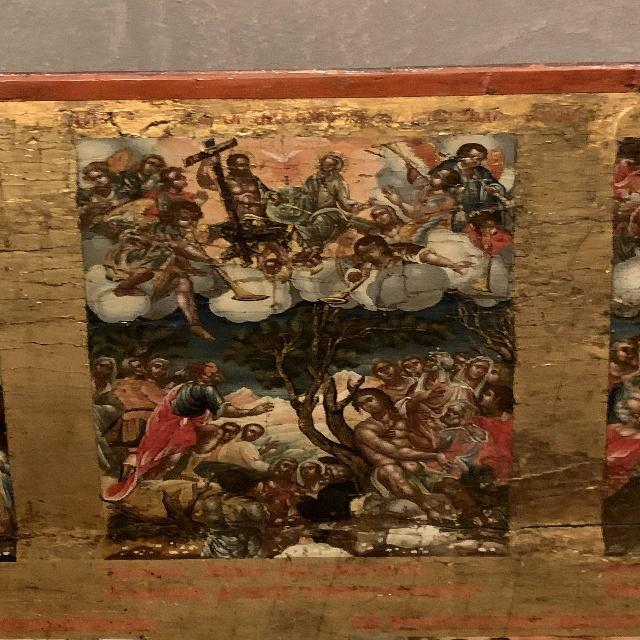angel: (320, 216, 466, 302), (411, 137, 510, 208)
cloud: (204, 271, 290, 321), (84, 267, 148, 327)
cross: (189, 137, 242, 270)
father: (273, 146, 377, 264)
trumpet: (193, 238, 266, 315), (319, 268, 373, 309), (470, 255, 500, 296)
wing: (394, 218, 442, 245), (410, 138, 442, 166), (488, 149, 512, 181)
